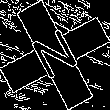N_SE: (25, 24, 85, 86)
